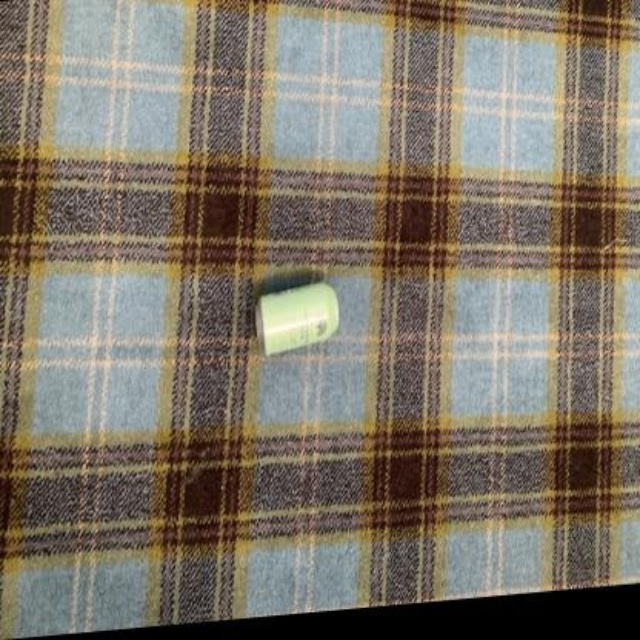trash: (257, 282, 337, 354)
